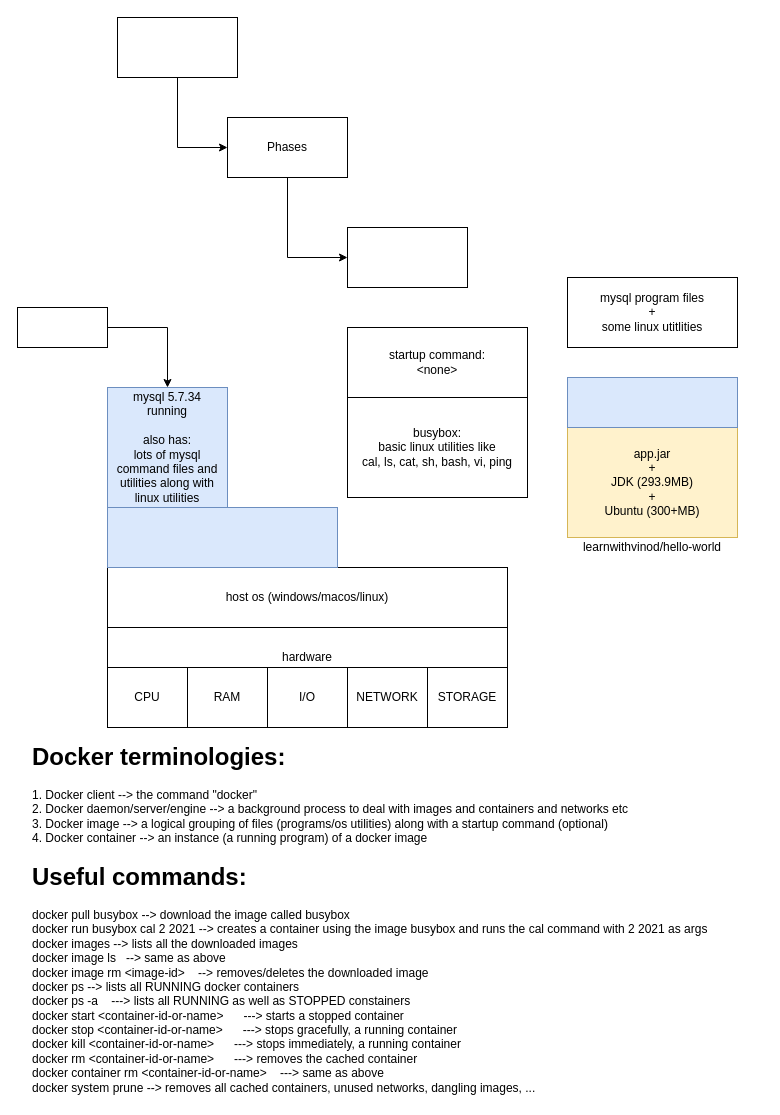
Image size: 780x1115. Some labels were removed from this diagram. The shapes that lost their labels are listed below. From the top down, each one's centre as x and y in pixels, then its label:
At point 177,47: "maven lifecycle".
At point 407,257: "Goals".
At point 62,327: "terminal".
At point 652,402: "startup command: java -jar xxx.jar".
At point 222,537: "docker daemon/server/engine (linux kernel)".
